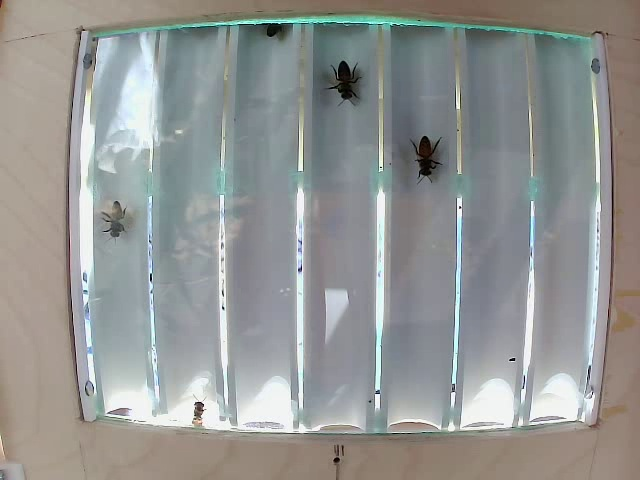bee: (322, 54, 357, 100), (416, 130, 438, 193), (97, 203, 131, 232)
